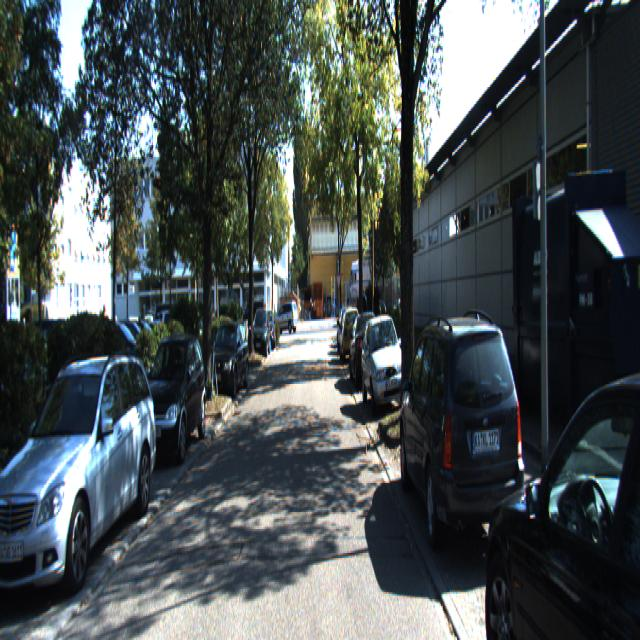Car: (488, 318, 640, 638), (0, 348, 160, 609), (397, 305, 529, 584), (136, 328, 207, 470), (360, 310, 409, 417), (208, 318, 250, 402), (348, 311, 385, 391), (338, 306, 363, 366), (250, 306, 270, 358), (272, 300, 298, 330)
DontCare: (344, 242, 397, 313)
